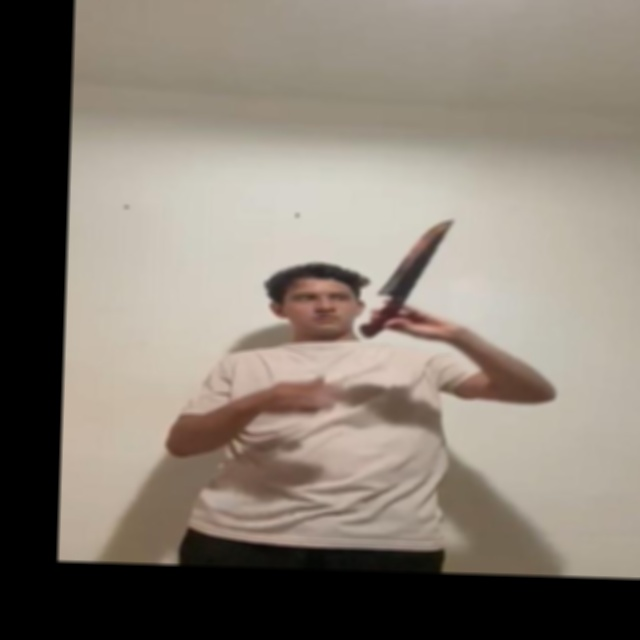Sharp-Object: (373, 218, 455, 304)
